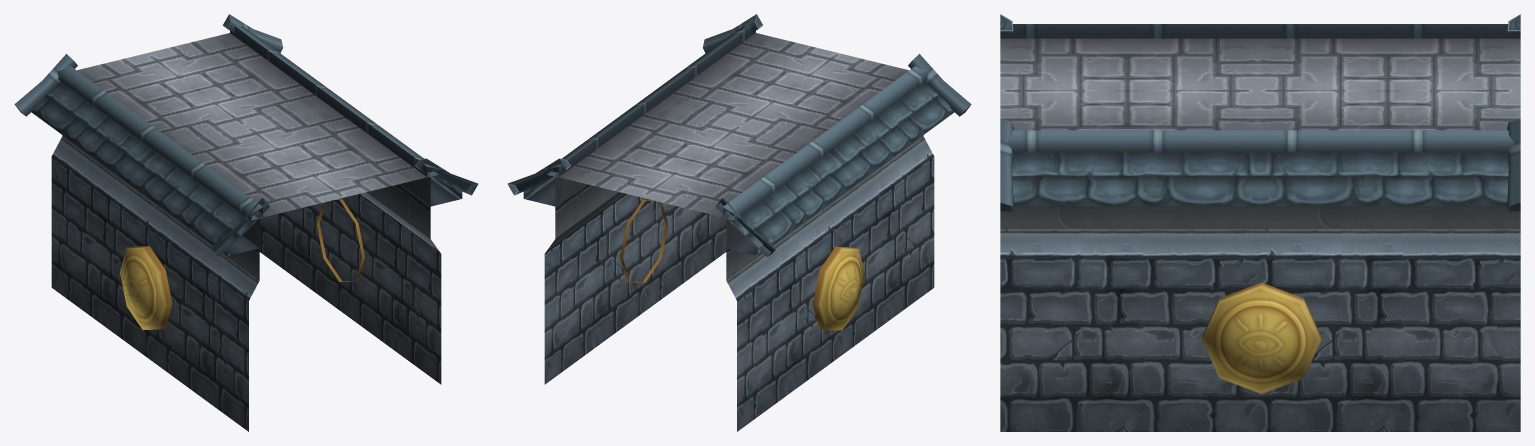
Rendered from castle_wall_straight_01.fbx.
3 renders of one model, left to right at view 1: azimuth 30°, elevation 25°; view 2: azimuth 150°, elevation 25°; view 3: azimuth 270°, elevation 25°, orthographic. The views are drawn at different scales.
Visible parts, largest first — view 1: castle_wall_straight_01; view 2: castle_wall_straight_01; view 3: castle_wall_straight_01.
Part boxes in pixels (x1=…): castle_wall_straight_01: x1=14, y1=14, x2=478, y2=431; castle_wall_straight_01: x1=507, y1=14, x2=971, y2=431; castle_wall_straight_01: x1=1000, y1=14, x2=1520, y2=431.
Size of the model in its own units: 5.16 by 4.25 by 6.61.
Materials: 1 (1 with a texture image).
